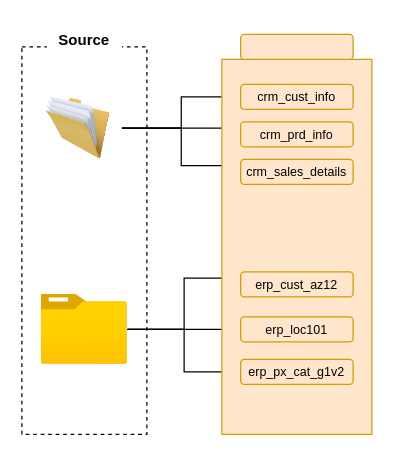
The diagram is 394 pixels wide and 456 high, and some of its shapes have lost their labels. The centre of each missing label's shape, as x and y in pixels:
Bronze Layer: point (296, 46)
CRM: point (77, 127)
ERP: point (84, 329)
